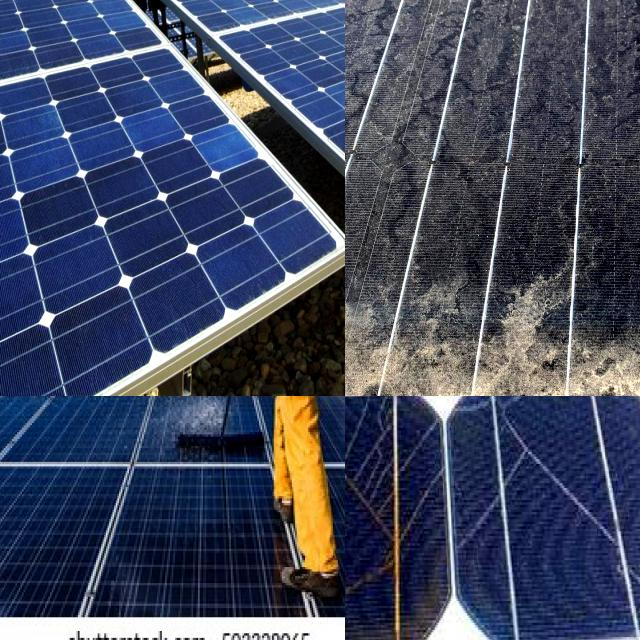crack: (0, 99, 260, 333), (120, 459, 313, 638), (0, 451, 151, 640), (0, 0, 164, 123), (129, 0, 345, 76), (16, 396, 158, 493), (297, 51, 345, 151)
dust: (345, 0, 577, 208), (345, 259, 505, 396), (534, 256, 640, 396)
shadow: (345, 440, 450, 640)
